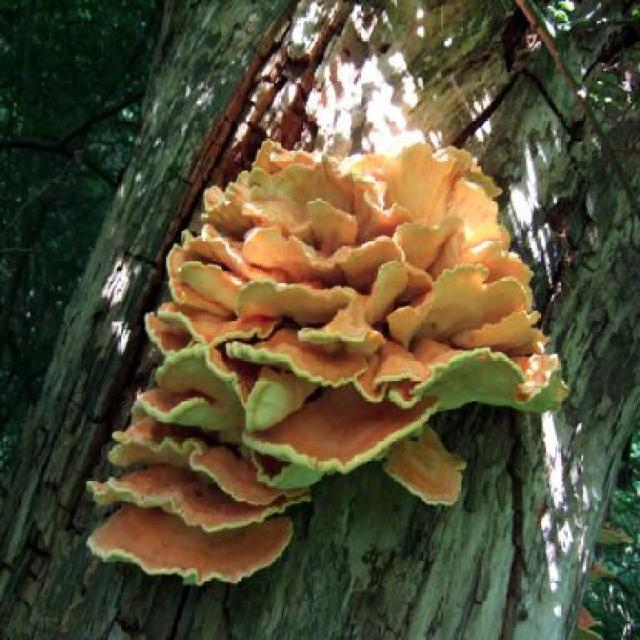Mushroom: (121, 132, 558, 530)
